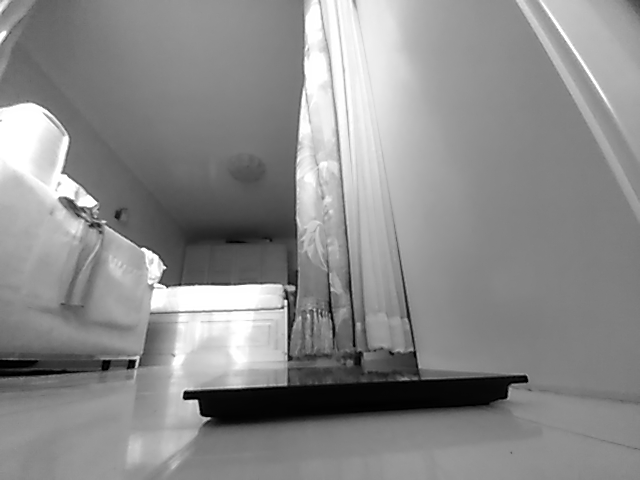curtain: (289, 1, 416, 355)
scale: (183, 367, 528, 423)
